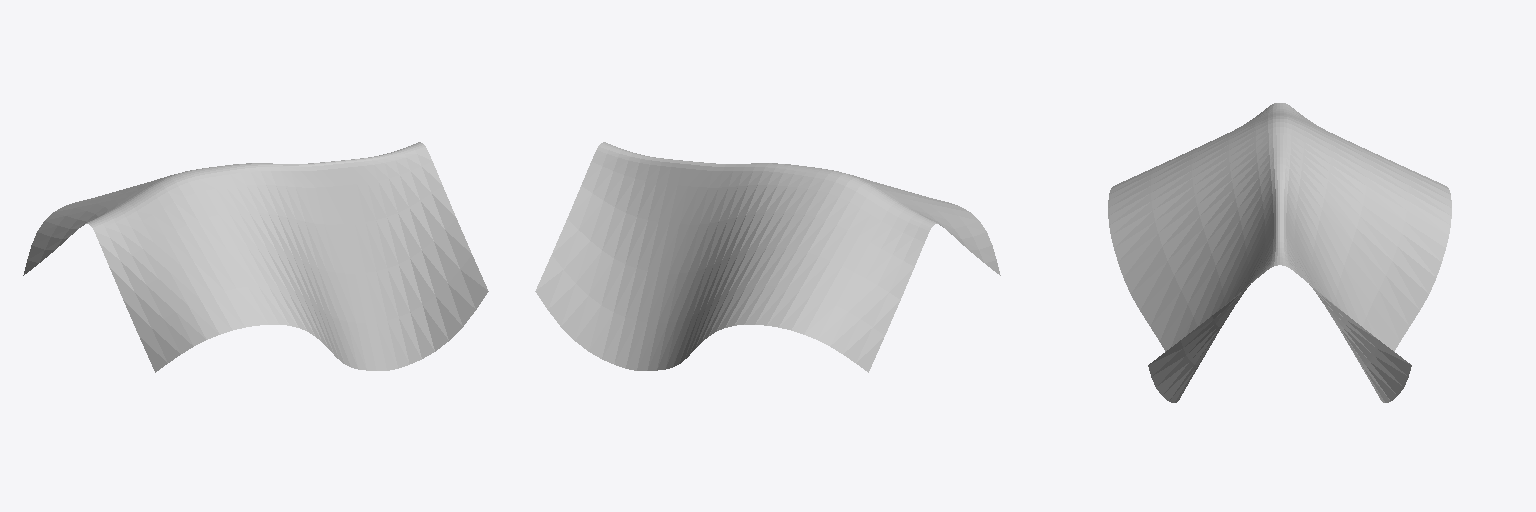
3 views of the same model, side by side, from view 1: azimuth 30°, elevation 25°; view 2: azimuth 150°, elevation 25°; view 3: azimuth 270°, elevation 25° (orthographic).
Parts seen in each view (by area): view 1: strip-1-03; view 2: strip-1-03; view 3: strip-1-03.
Part boxes in pixels (left/top/right/bottom): strip-1-03: left=23, top=142, right=488, bottom=372; strip-1-03: left=535, top=142, right=1000, bottom=372; strip-1-03: left=1108, top=103, right=1451, bottom=402.
Size of the model in its own units: 0.25 by 0.1412 by 0.2233.